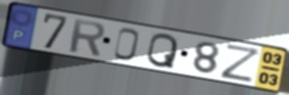0: (113, 28, 142, 62)
7: (41, 12, 69, 50)
8: (192, 41, 223, 75)
Q: (145, 33, 180, 71)
R: (68, 17, 107, 58)
Z: (219, 42, 264, 84)
